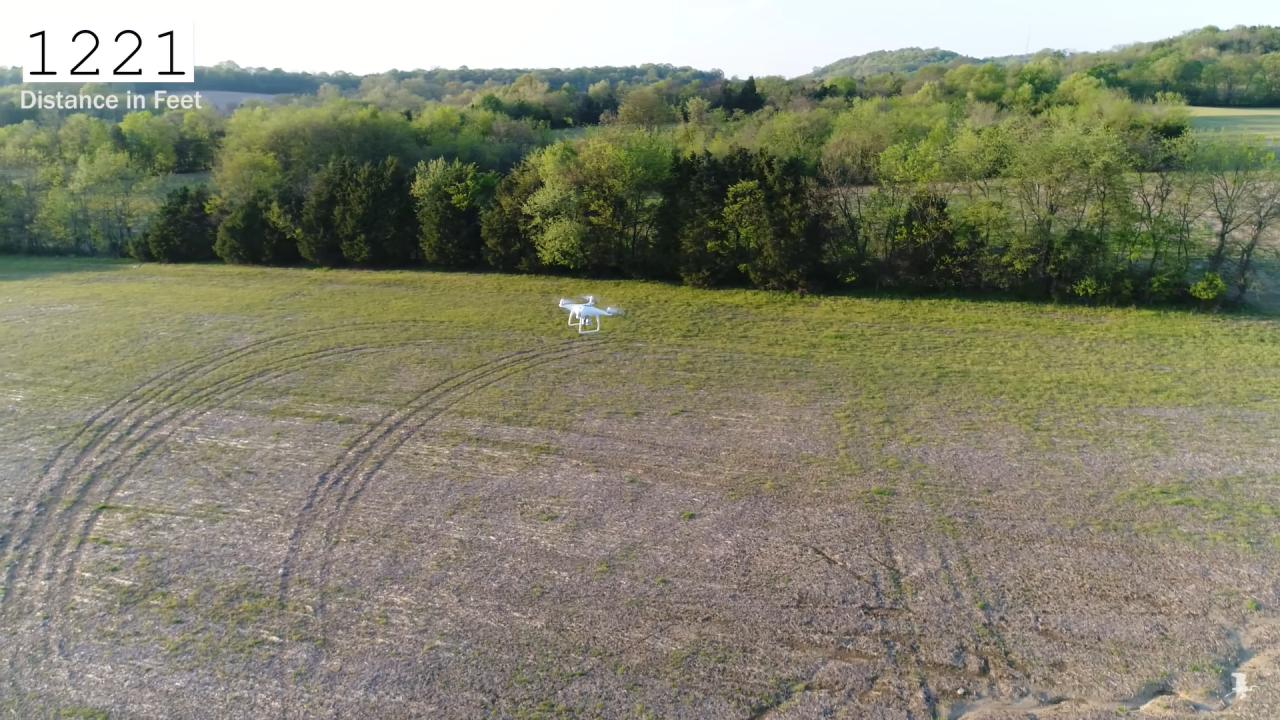Drone: (548, 287, 632, 343)
